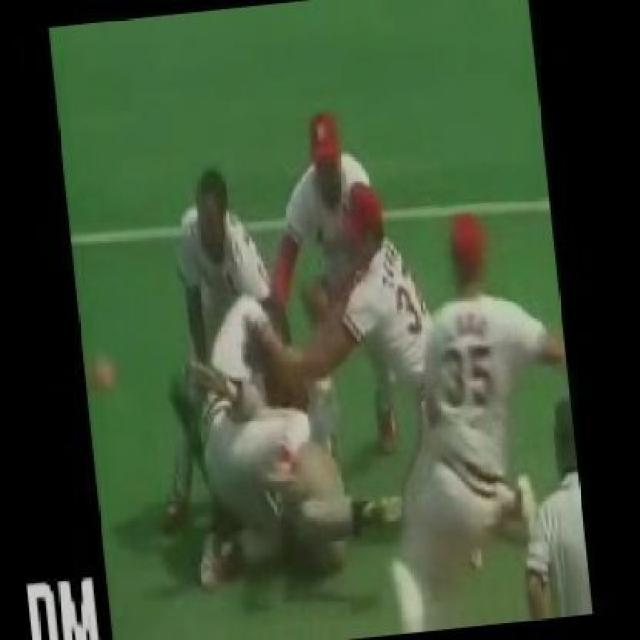fight: (149, 288, 414, 588)
